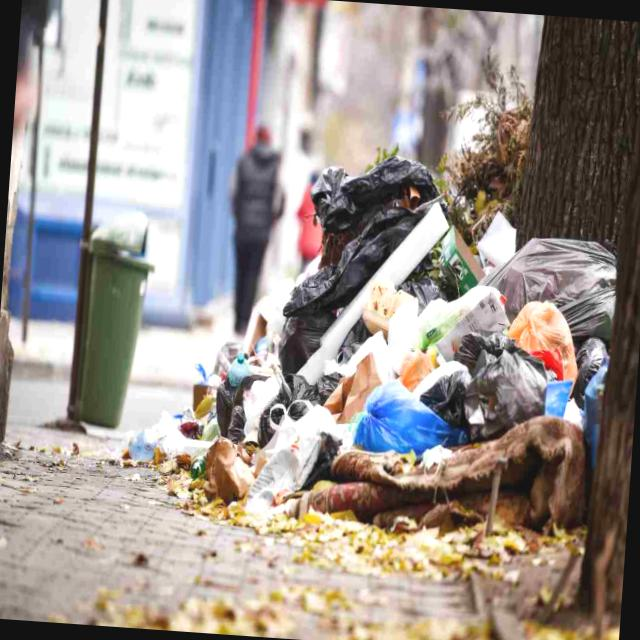garbage: (170, 163, 626, 570)
